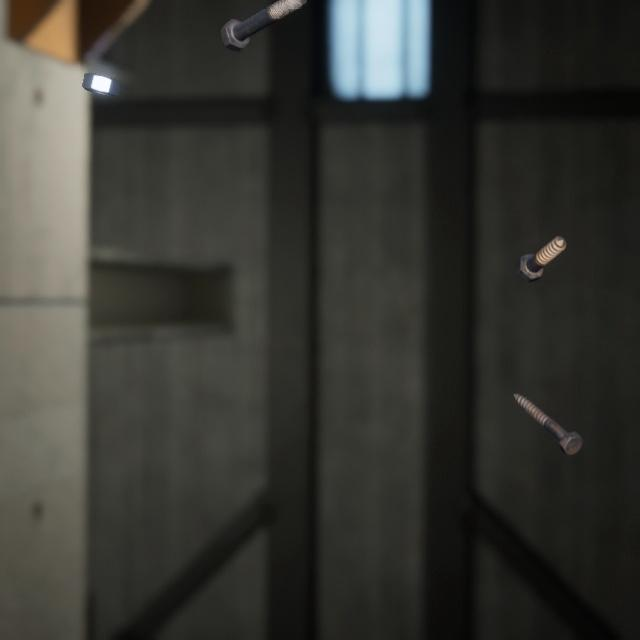bolt: (509, 369, 587, 439), (215, 0, 302, 47), (511, 215, 570, 271)
nut: (77, 58, 124, 89)
